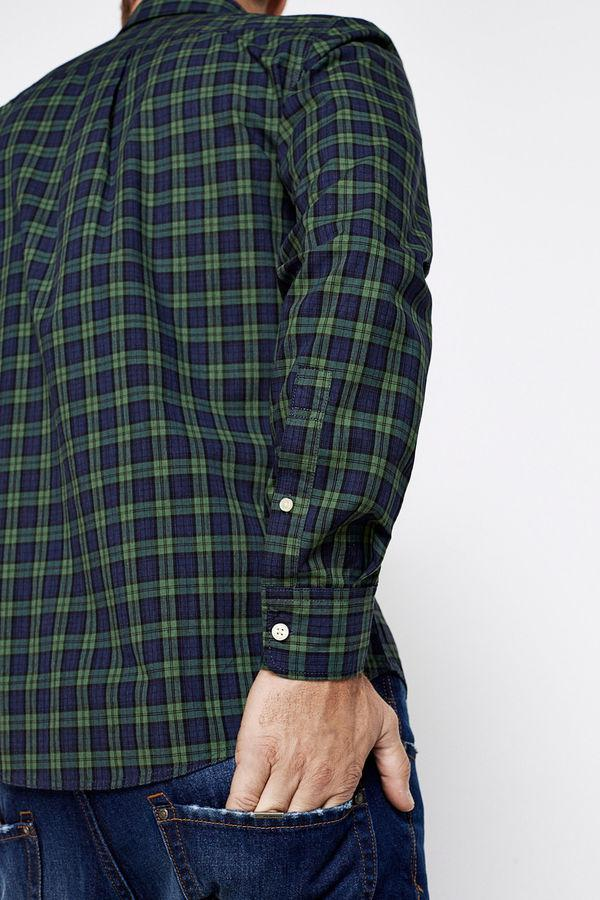teeshirt: (1, 1, 449, 797)
